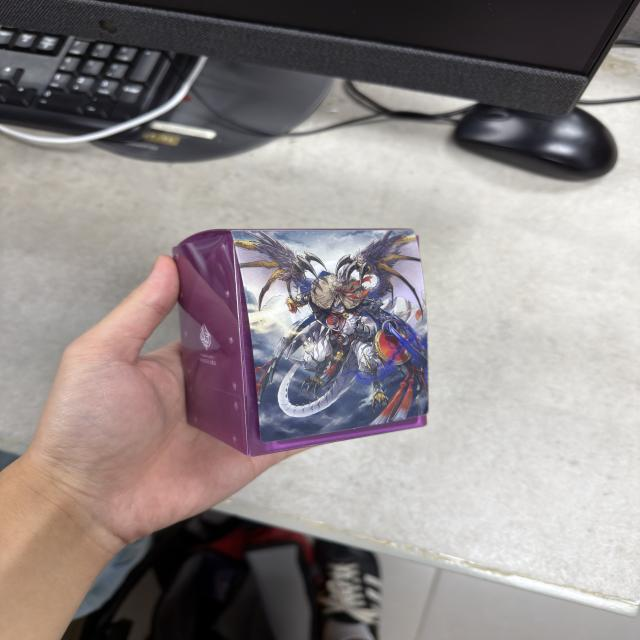box: (167, 226, 430, 456)
